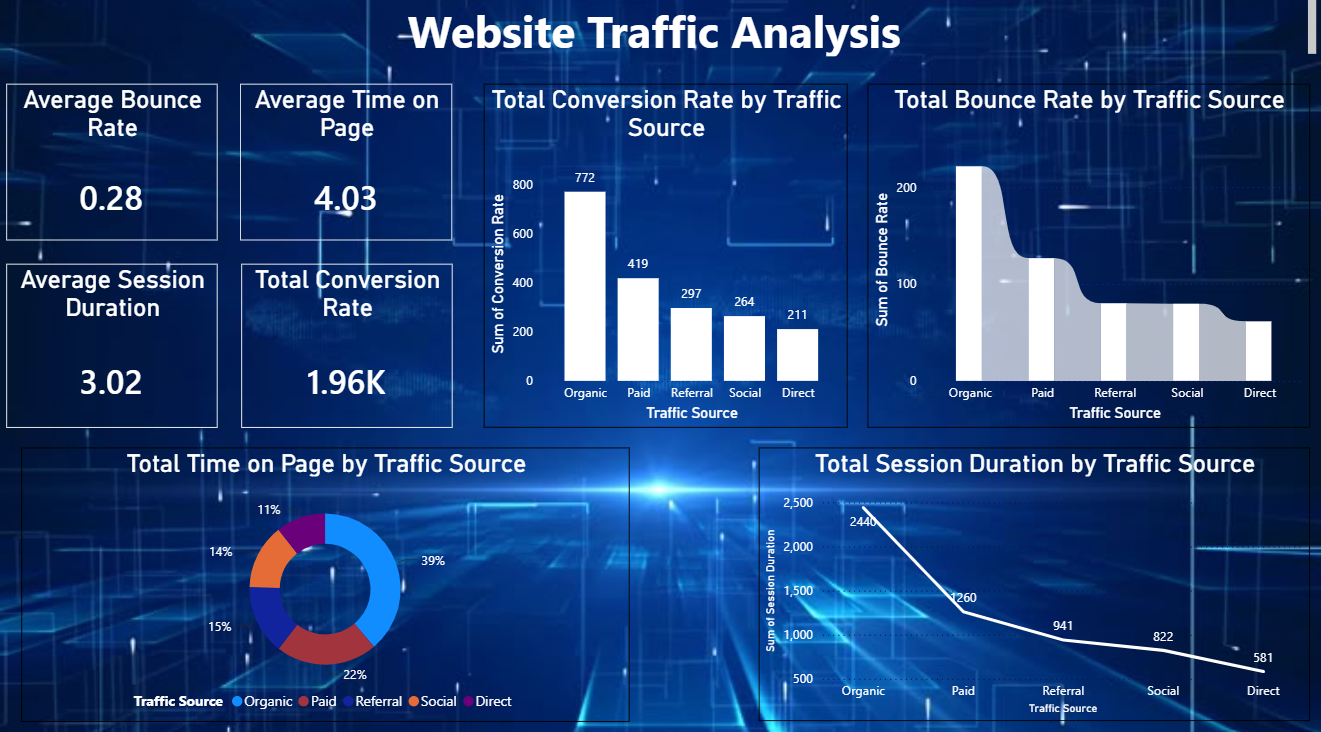

Layout of this report page (visuals, bound fields, positions):
{"tool":"powerbi","page":{"name":"Page 1","canvas":[1280,720],"ordinal":0},"visuals":[{"type":"textbox","box":[0,0,1280.3,64.5],"z":0},{"type":"cardVisual","title":"Average Bounce Rate","fields":{"Data":["Avg(website_wata.Bounce Rate)"]},"box":[10.9,85.7,203.9,150.8],"z":1000},{"type":"cardVisual","title":"Average Time on Page","fields":{"Data":["Avg(website_wata.Time on Page)"]},"box":[236.5,85.7,205.1,150.8],"z":2000},{"type":"cardVisual","title":"Total Conversion Rate","fields":{"Data":["Sum(website_wata.Conversion Rate)"]},"box":[237.7,259.4,203.9,158],"z":3000},{"type":"cardVisual","title":"Average Session Duration","fields":{"Data":["Avg(website_wata.Session Duration)"]},"box":[10.9,259.4,203.9,158],"z":4000},{"type":"donutChart","title":"Total Time on Page by Traffic Source","fields":{"Y":["Sum(website_wata.Time on Page)"],"Category":["website_wata.Traffic Source"]},"box":[25.3,436.7,587.3,264.8],"z":5000},{"type":"columnChart","title":"Total Conversion Rate by Traffic Source","fields":{"Category":["website_wata.Traffic Source"],"Y":["Sum(website_wata.Conversion Rate)"]},"box":[471.7,85.7,351.1,331.8],"z":6000},{"type":"lineChart","title":"Total Session Duration by Traffic Source","fields":{"Y":["Sum(website_wata.Session Duration)"],"Category":["website_wata.Traffic Source"]},"box":[737.1,436.7,532,264.2],"z":7000},{"type":"ribbonChart","title":"Total Bounce Rate by Traffic Source","fields":{"Y":["Sum(website_wata.Bounce Rate)"],"Category":["website_wata.Traffic Source"]},"box":[842.1,85.7,427.1,331.8],"z":8000}]}

Visuals, with their boxes in screenshot pixels (x1, y1, x2, y2), scaled from the page's 1280x720 canvas onto the 1321x732 screenshot:
textbox: 0:0:1320:66
"Average Bounce Rate" cardVisual: 11:87:222:240
"Average Time on Page" cardVisual: 244:87:456:240
"Total Conversion Rate" cardVisual: 245:264:456:424
"Average Session Duration" cardVisual: 11:264:222:424
"Total Time on Page by Traffic Source" donutChart: 26:444:632:713
"Total Conversion Rate by Traffic Source" columnChart: 487:87:849:424
"Total Session Duration by Traffic Source" lineChart: 761:444:1310:713
"Total Bounce Rate by Traffic Source" ribbonChart: 869:87:1310:424
